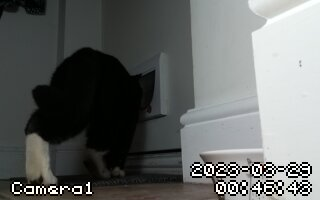bad: (20, 47, 150, 196)
